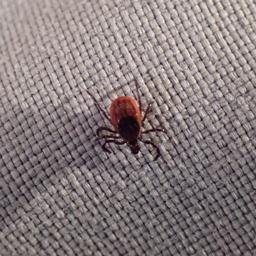Ixodes scapularis: (93, 88, 167, 162)
